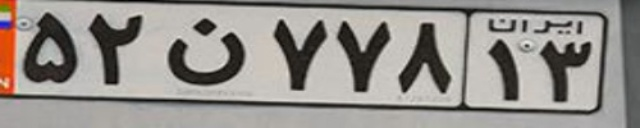1: (488, 37, 524, 101)
2: (87, 11, 139, 86)
3: (539, 40, 591, 103)
5: (23, 11, 77, 85)
7: (335, 19, 390, 92), (273, 18, 327, 91)
8: (398, 20, 452, 95)
non: (163, 18, 245, 85)
